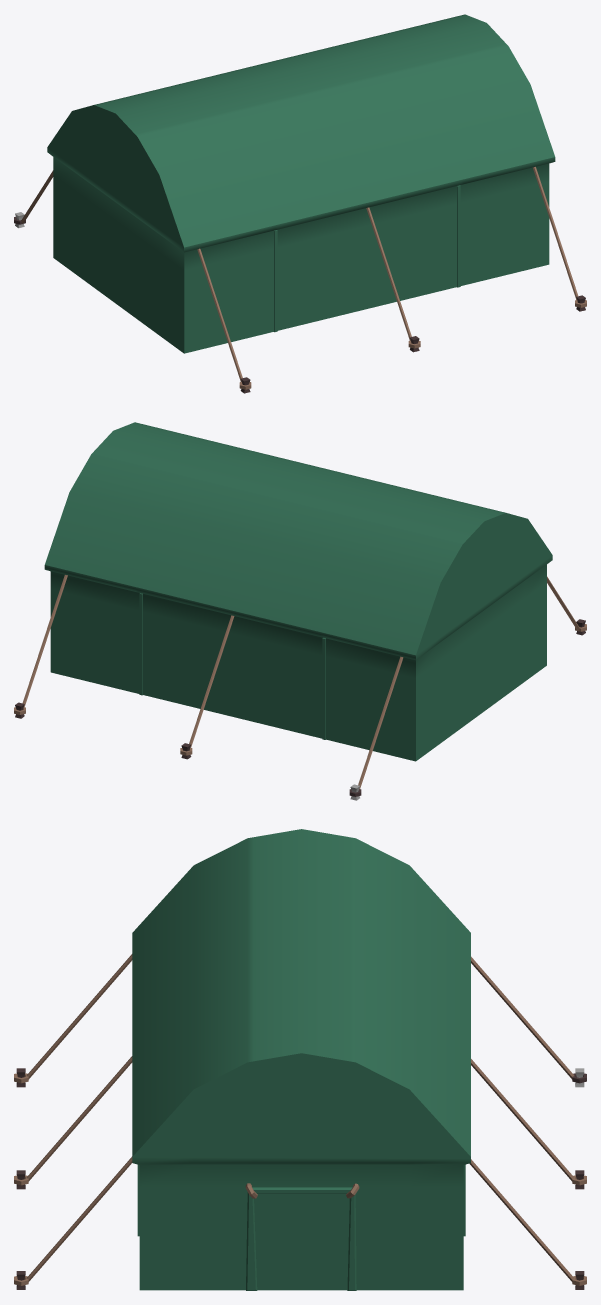
File: BigTent.fbx
The picture shows the model from 3 angles, top to bottom: view 1: azimuth 30°, elevation 25°; view 2: azimuth 150°, elevation 25°; view 3: azimuth 270°, elevation 25°; orthographic projection. The views are drawn at different scales.
Parts seen in each view (by area): view 1: tent, rop6, rope10, rope5; view 2: tent, rope7, rope9, rope8; view 3: tent, rope10, rop6, rope5, rope8, rope9, rope7.
Part boxes in pixels (x1,y1,x2,y2): tent: [47, 14, 555, 353]; rop6: [197, 248, 242, 381]; rope10: [366, 207, 411, 340]; rope5: [532, 166, 578, 299]; tent: [44, 422, 552, 761]; rope7: [189, 615, 234, 747]; rope9: [358, 656, 403, 788]; rope8: [22, 575, 67, 707]; tent: [132, 829, 470, 1290]; rope10: [26, 1056, 132, 1181]; rop6: [26, 954, 132, 1079]; rope5: [26, 1156, 132, 1281]; rope8: [469, 1159, 574, 1281]; rope9: [471, 956, 574, 1079]; rope7: [471, 1059, 574, 1181].
Size of the model in its own units: 3.54 by 1.8 by 3.79.
